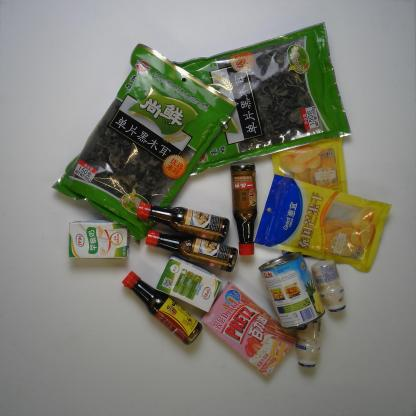Canned Food: (258, 252, 326, 330)
Dessert: (200, 282, 298, 378)
Dried Food: (51, 43, 239, 242), (182, 22, 352, 177)
Dried Fruit: (254, 174, 392, 273), (270, 137, 348, 258)
Milk: (156, 256, 221, 314), (67, 219, 130, 260), (311, 258, 346, 312), (295, 317, 322, 368)
Seasoner: (121, 271, 203, 346), (144, 229, 238, 273), (136, 202, 230, 242), (229, 163, 258, 256)
